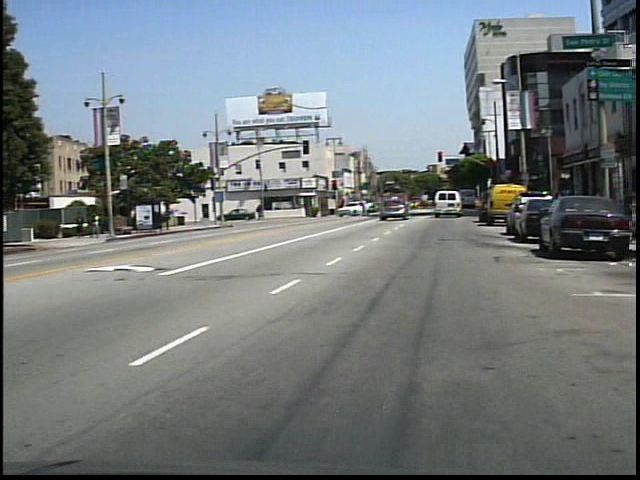person: (94, 209, 111, 243), (259, 196, 274, 223), (79, 212, 93, 239)
